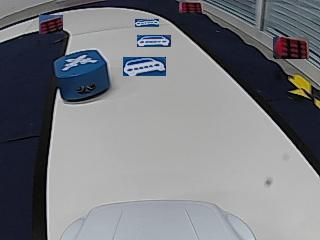spy: (62, 54, 97, 70)
